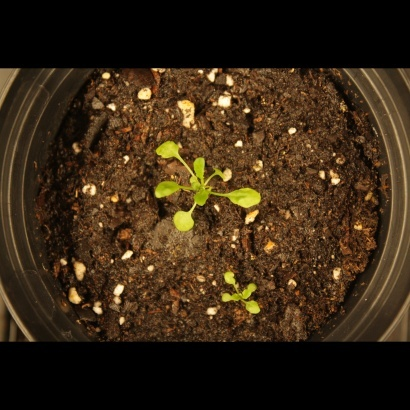leaf: (227, 182, 265, 212), (170, 208, 199, 240), (151, 178, 183, 202), (155, 139, 184, 165), (222, 265, 245, 288), (242, 277, 265, 300), (245, 301, 268, 324), (218, 289, 241, 312), (189, 156, 212, 179), (213, 160, 236, 183), (191, 187, 214, 210)
